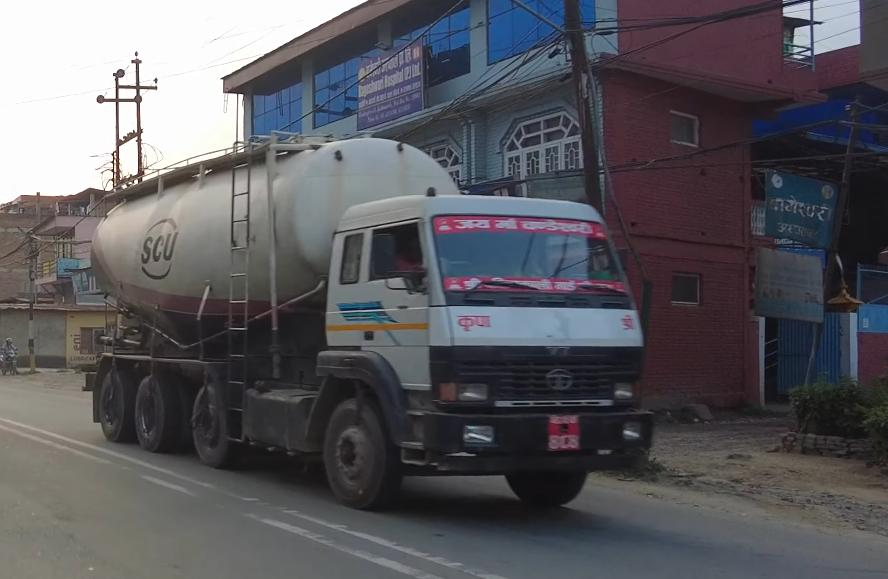bike: (0, 347, 18, 375)
truck: (86, 130, 655, 510)
